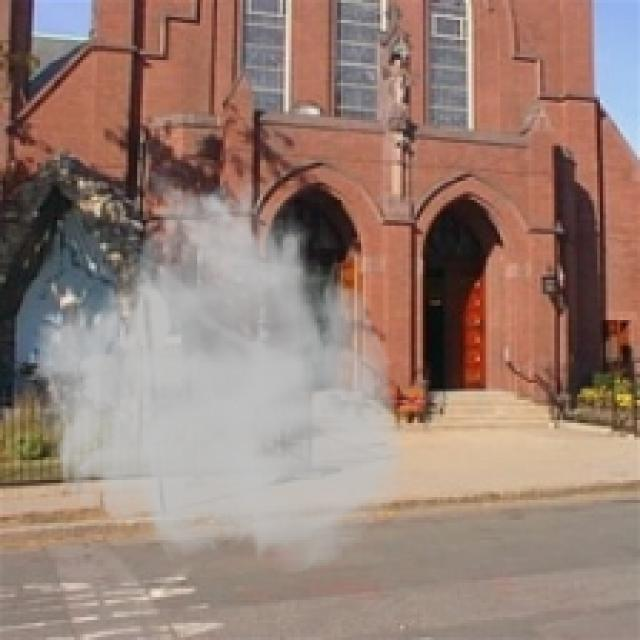Smoke: (29, 162, 412, 578)
